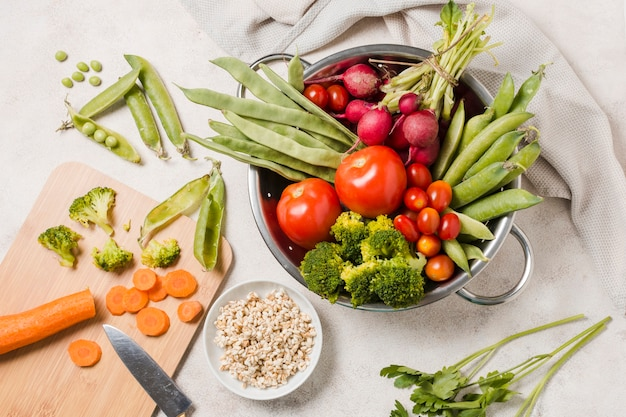knife: (102, 323, 197, 417)
